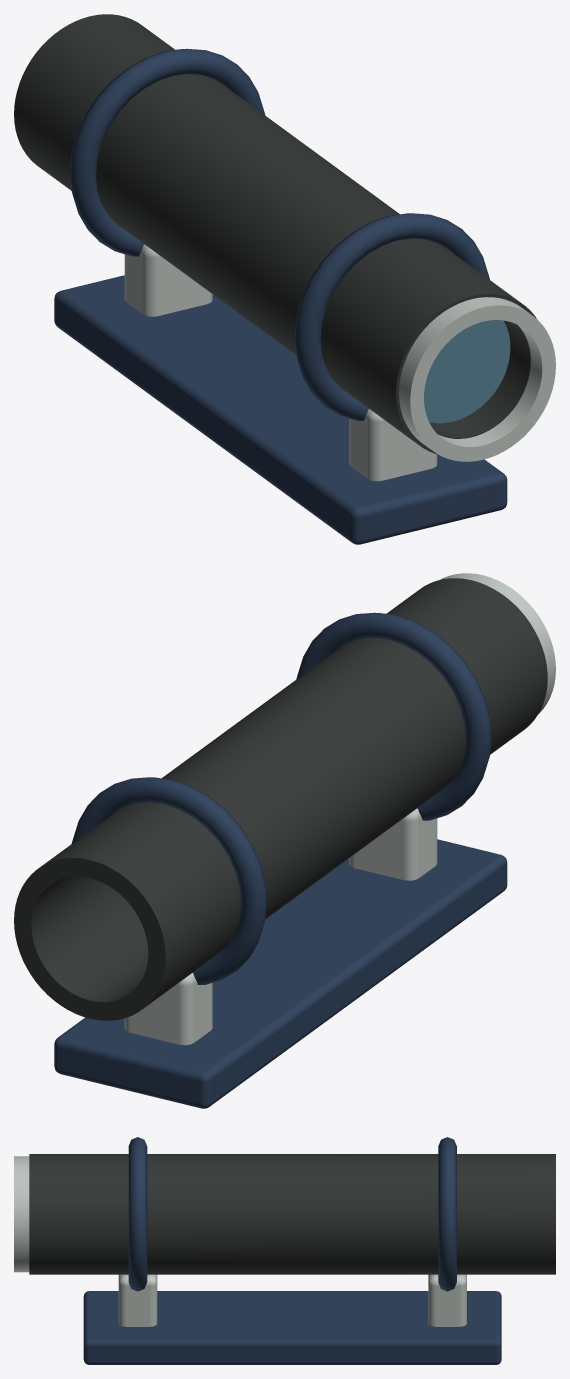
File: planetarium-and-optical-observatory-finder-scope-e8b7160e__31851.glb
3 renders of one model, top to bottom at view 1: azimuth 30°, elevation 25°; view 2: azimuth 150°, elevation 25°; view 3: azimuth 270°, elevation 25°, orthographic. The views are drawn at different scales.
Parts seen in each view (by area): view 1: finder-scope; view 2: finder-scope; view 3: finder-scope.
Part boxes in pixels (bbox=[...]): finder-scope: bbox=[14, 14, 555, 544]; finder-scope: bbox=[14, 573, 555, 1108]; finder-scope: bbox=[14, 1137, 555, 1364].
Size of the model in its own units: 0.1 by 0.14 by 0.35.
